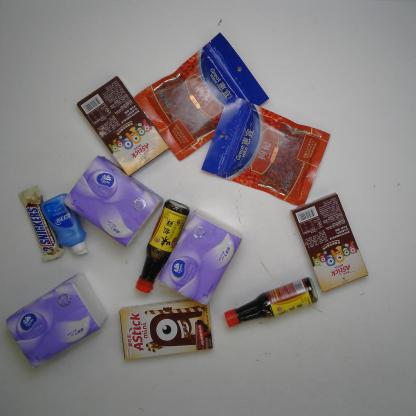Chocolate: (16, 185, 64, 261)
Dessert: (75, 75, 170, 177), (288, 191, 370, 292), (118, 299, 215, 361)
Dried Fruit: (132, 32, 270, 160), (202, 94, 332, 206)
Personal Hygiene: (39, 192, 91, 256)
Seasoner: (134, 198, 190, 294), (223, 278, 319, 329)
Tissue: (4, 271, 107, 369), (61, 154, 163, 248), (158, 209, 244, 306)
